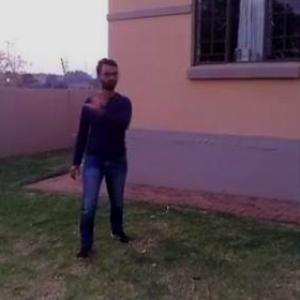follow_hand: (80, 84, 106, 114)
